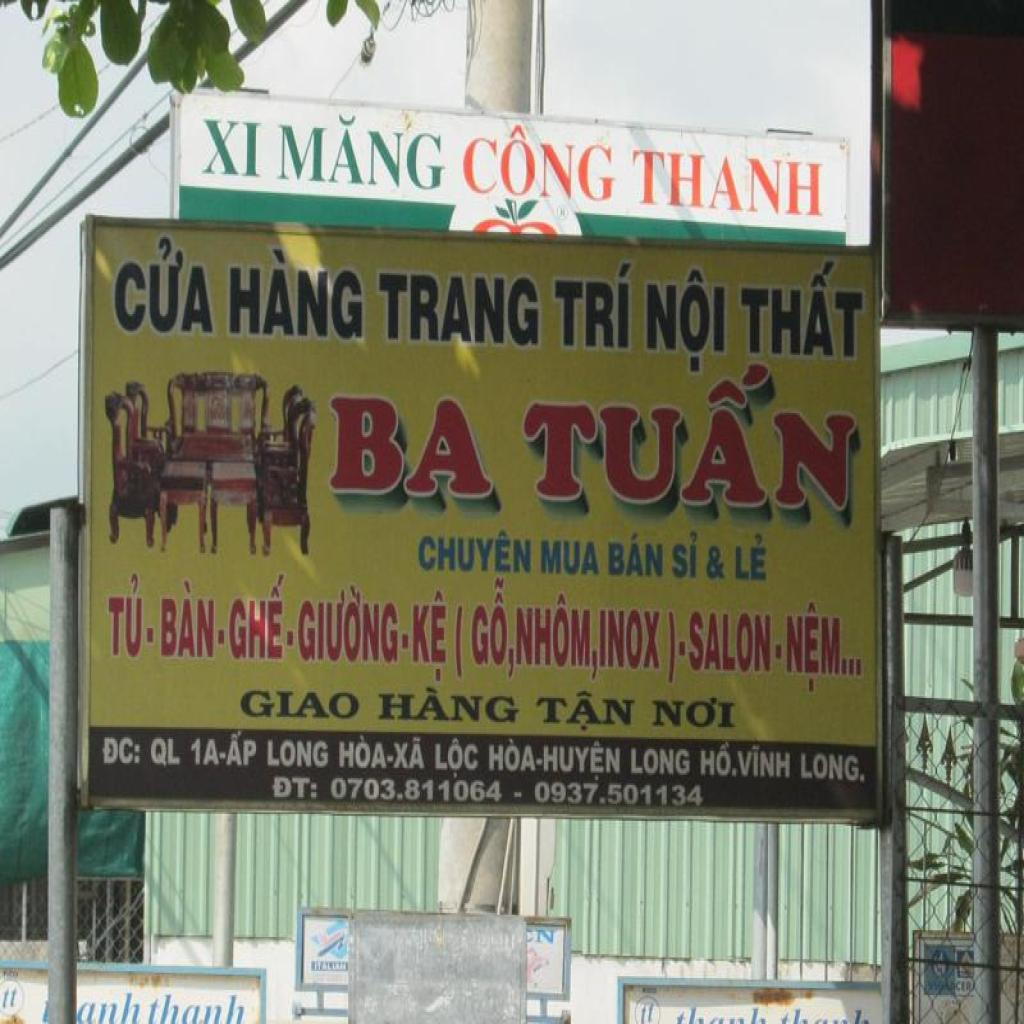text: (516, 365, 869, 526), (318, 386, 500, 507), (223, 232, 366, 347), (628, 140, 827, 222), (371, 266, 545, 354), (275, 109, 447, 198), (737, 251, 869, 360), (462, 118, 616, 205), (105, 224, 215, 340), (641, 259, 731, 379), (549, 254, 639, 360), (298, 580, 401, 669), (379, 681, 522, 732), (413, 524, 535, 580), (226, 565, 290, 664), (329, 772, 504, 808), (516, 590, 592, 670), (688, 606, 774, 676), (233, 680, 362, 726), (784, 599, 842, 700), (534, 780, 708, 811), (534, 686, 637, 736), (156, 575, 215, 662), (470, 575, 516, 673), (200, 113, 268, 179), (598, 606, 662, 674), (410, 587, 452, 686), (540, 734, 624, 783), (104, 568, 146, 662), (648, 694, 740, 734), (146, 990, 251, 1024), (607, 524, 668, 582), (796, 742, 868, 787), (538, 534, 604, 577), (627, 740, 693, 782), (262, 734, 330, 773), (737, 741, 795, 783), (76, 990, 144, 1024), (433, 734, 481, 782), (485, 734, 539, 776), (336, 732, 388, 773), (732, 534, 771, 586), (271, 772, 320, 806), (392, 730, 428, 776), (97, 734, 145, 768), (671, 524, 700, 580), (146, 732, 184, 773), (698, 740, 734, 782), (452, 600, 470, 682), (225, 729, 260, 771), (189, 732, 223, 773), (663, 606, 678, 686), (706, 543, 730, 582), (1, 985, 19, 1012), (534, 925, 557, 946), (638, 998, 656, 1024), (590, 648, 599, 684), (508, 647, 516, 679)
